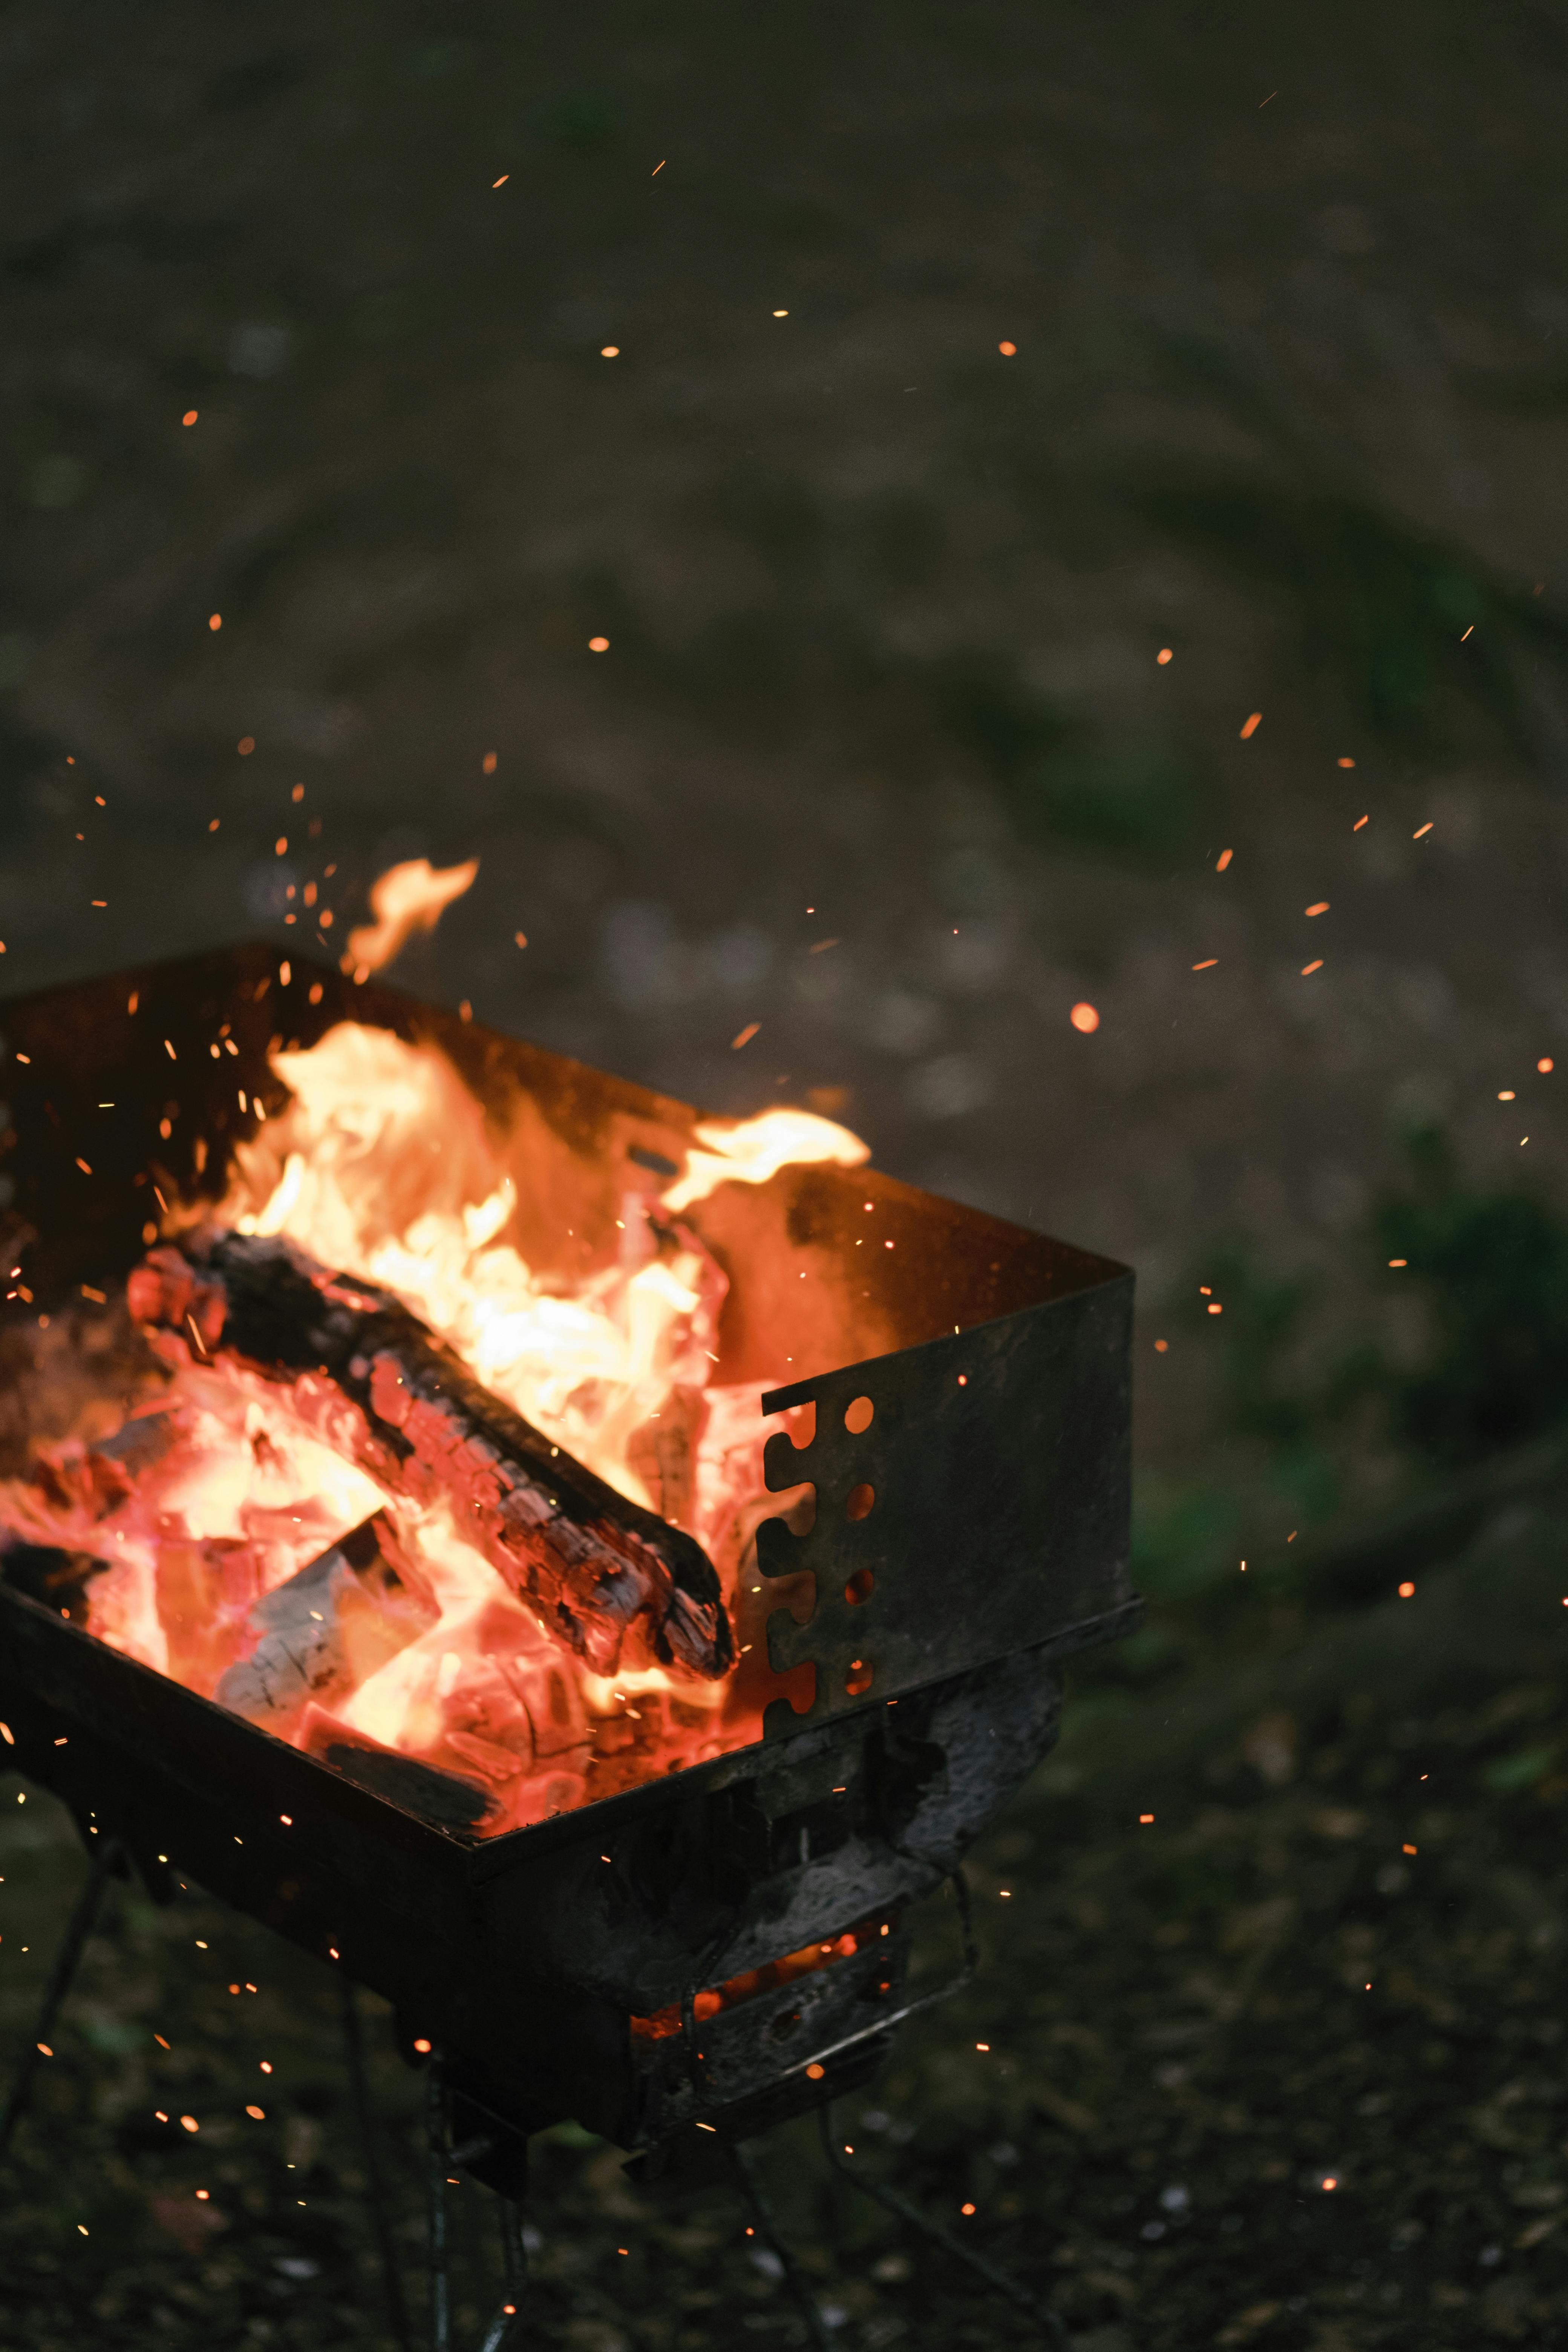smoke: (32, 861, 842, 1769)
